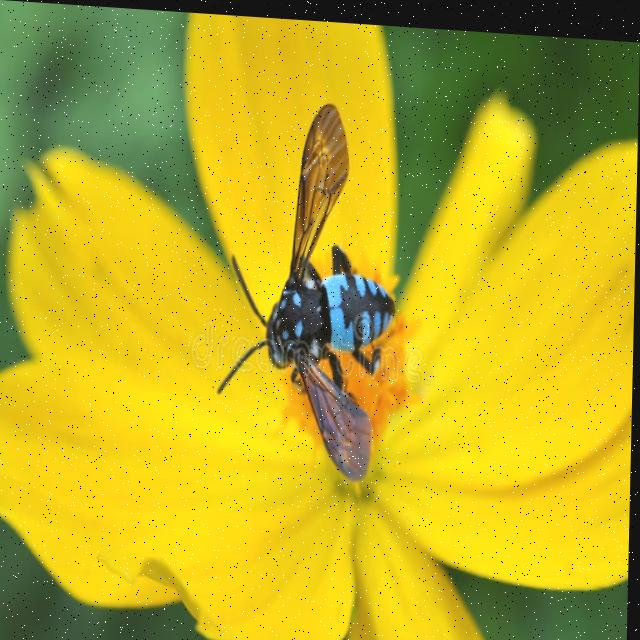Thyreus: (196, 87, 411, 498)
